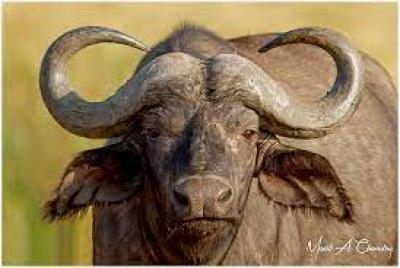buffalo: (38, 22, 398, 266)
